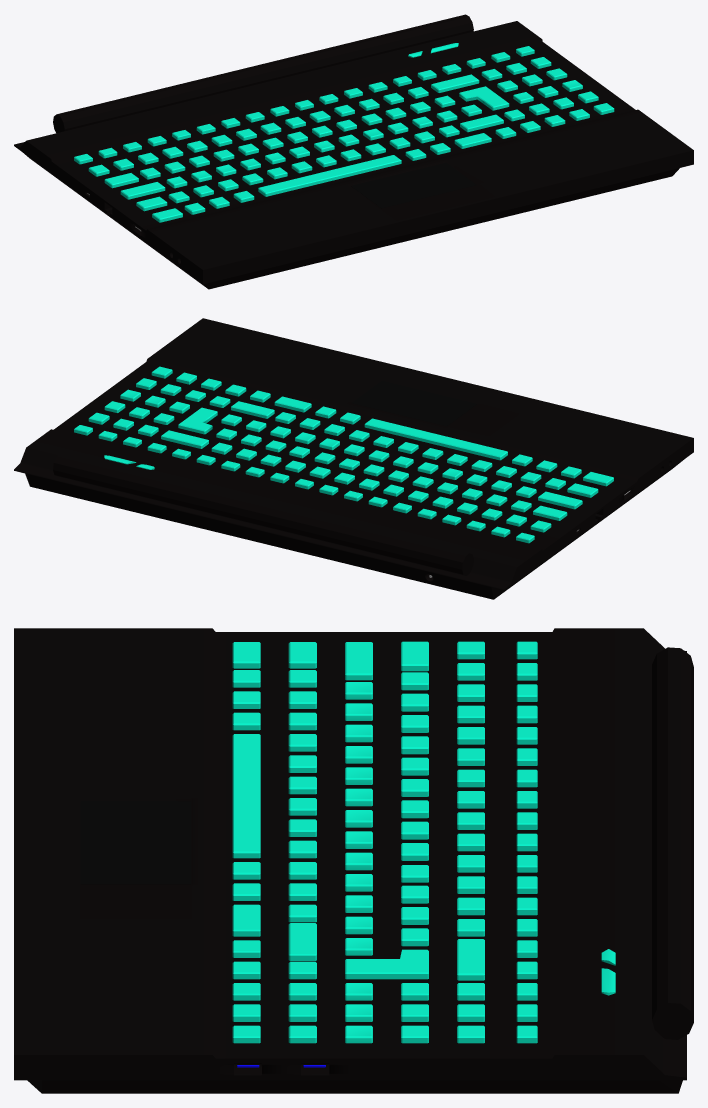
File: Laptop_Body.fbx
3 renders of one model, top to bottom at view 1: azimuth 30°, elevation 25°; view 2: azimuth 150°, elevation 25°; view 3: azimuth 270°, elevation 25°, orthographic. The views are drawn at different scales.
Parts seen in each view (by area): view 1: LOD0; view 2: LOD0; view 3: LOD0.
Part boxes in pixels (box(x1,y1,x2,y2)): LOD0: box(14, 14, 693, 289); LOD0: box(14, 318, 693, 599); LOD0: box(14, 628, 693, 1093).
Size of what is drawn, in the model's own units: 36 by 2.82 by 24.25.
